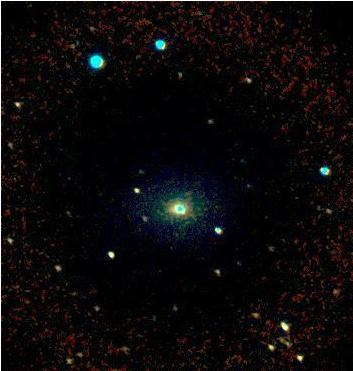star: (168, 198, 198, 228)
